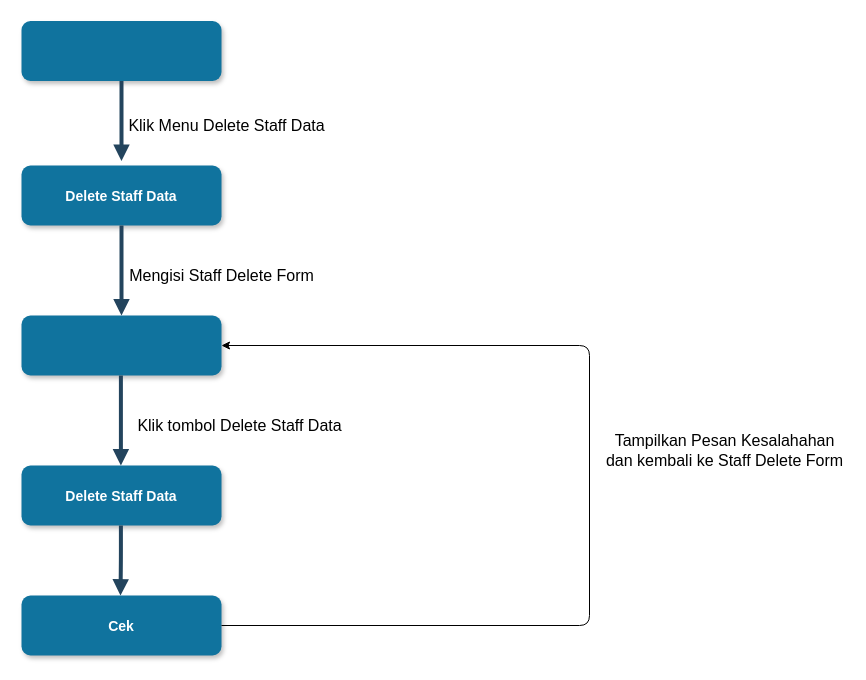
Some shapes in this 866 by 680 pixel diagram are drawn without their labels. The centre of each missing label's shape, as x and y in pixels:
Home: [122,52]
Staff Delete Form: [122,346]
